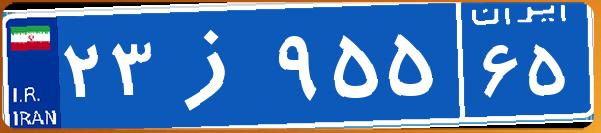2: (57, 26, 110, 107)
3: (110, 28, 158, 105)
5: (385, 28, 445, 110), (330, 28, 385, 110), (525, 38, 570, 115)
6: (475, 38, 525, 113)
9: (273, 28, 330, 110)
ز: (158, 15, 273, 115)
